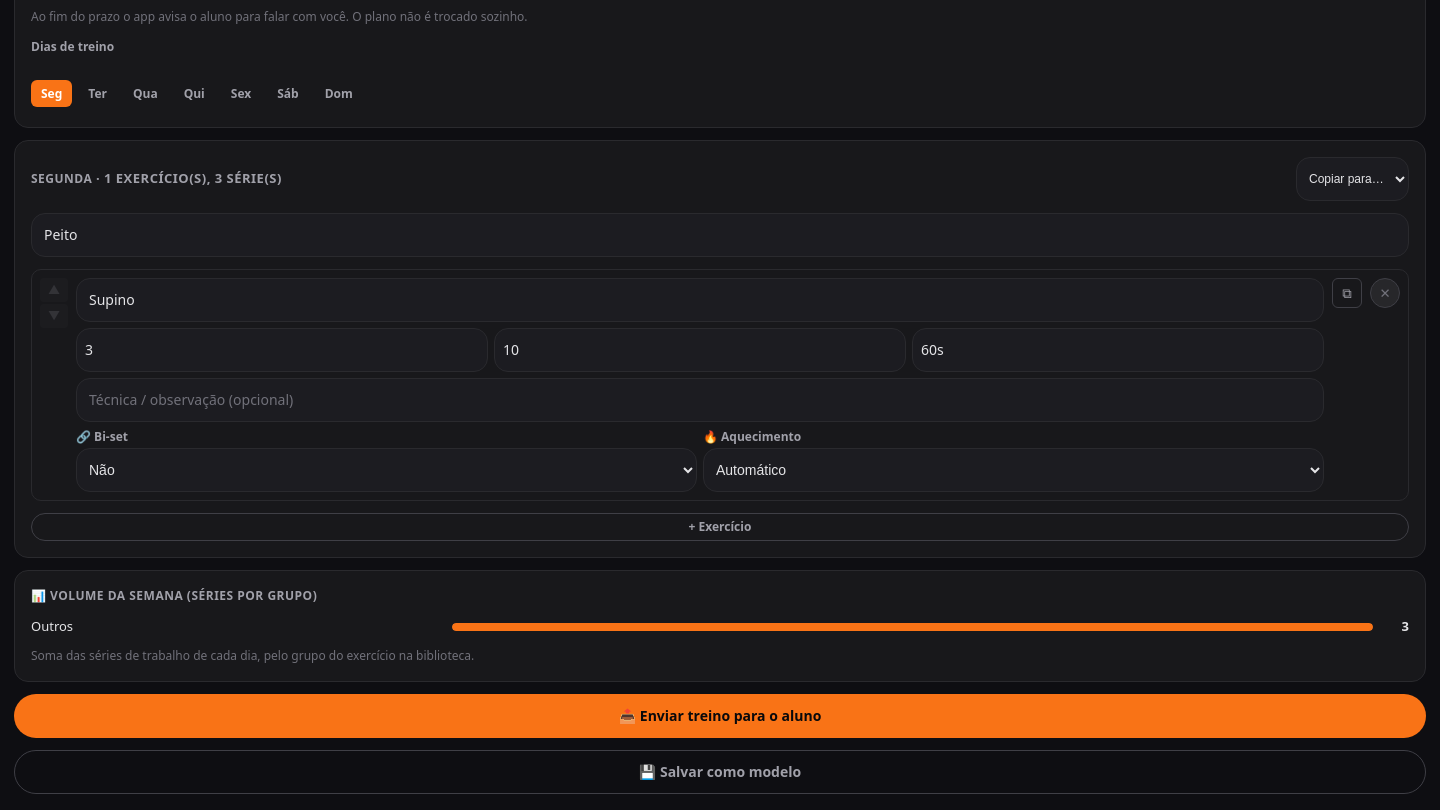
PlanBuilder — com aluno › erro do servidor aparece e mantém o rascunho
(page scrolled)
Click the button "📤 Enviar treino para o aluno": {"x": 720, "y": 716} top-left (14, 694), bottom-right (1426, 738)
(page scrolled)
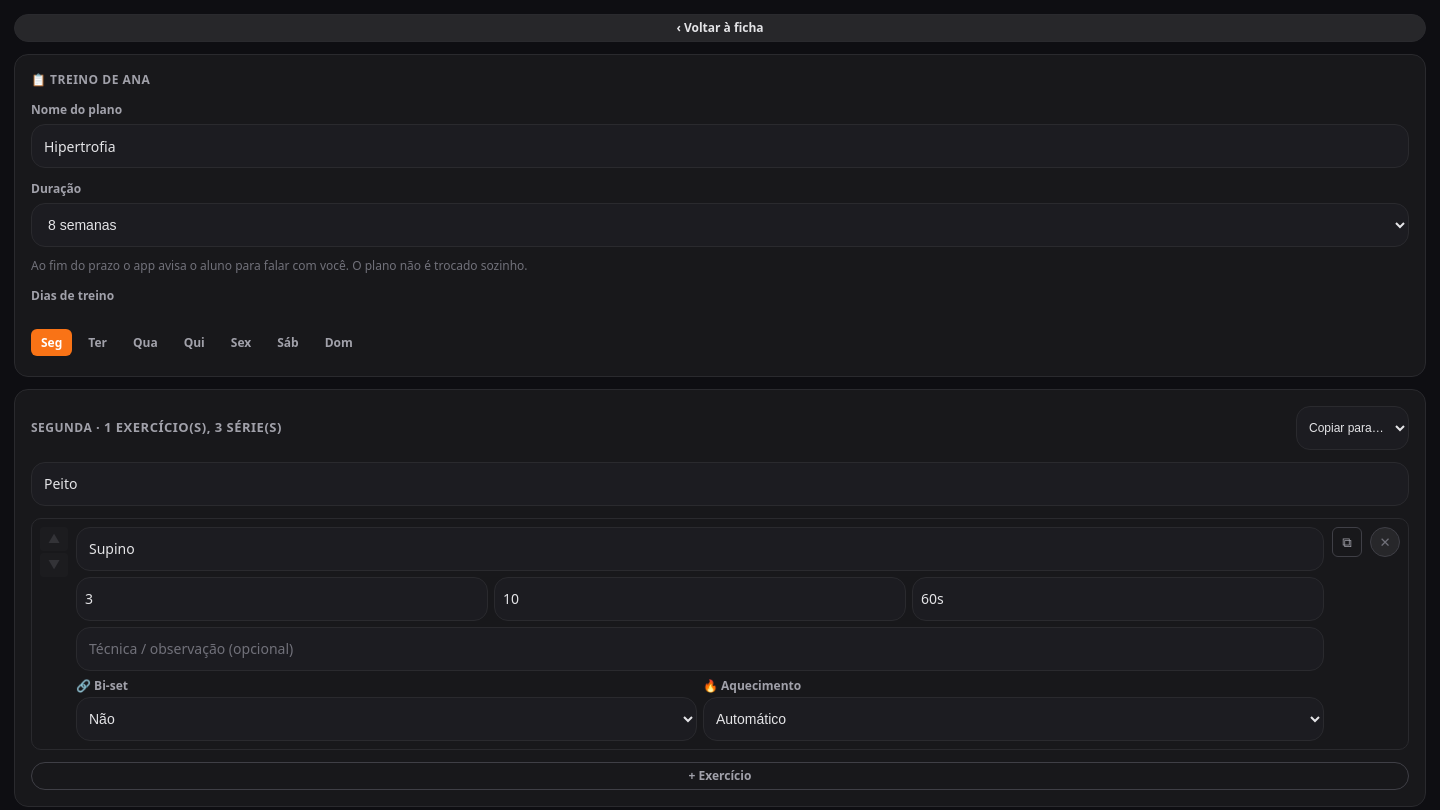
Expected: the field labelled "Nome do plano" holds "Hipertrofia", top-left (31, 124), bottom-right (1409, 168)
